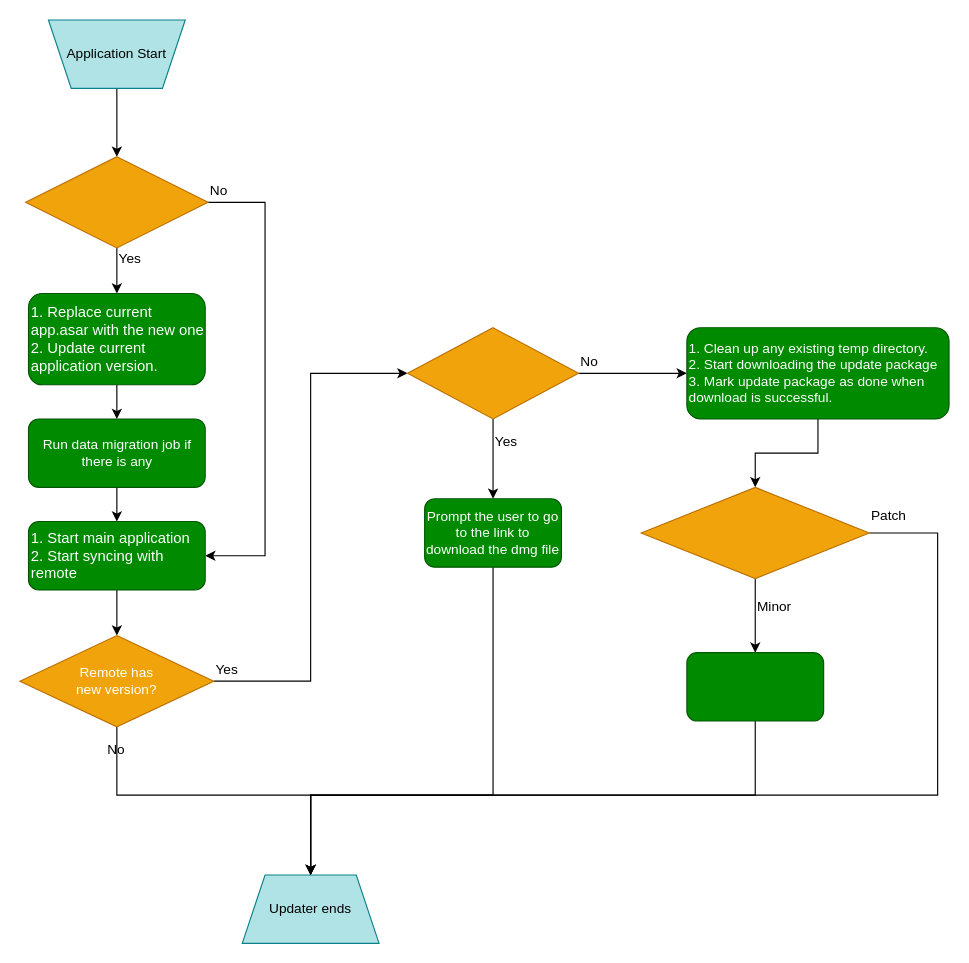
Some shapes in this 969 by 963 pixel diagram are drawn without their labels. Here are the shapes that lost their labels. From the top down, the centre of each, then its label:
the point at 116,202: Update package exists in temporary directory?
the point at 492,373: Major Update?
the point at 754,532: Minor update or Patch?
the point at 755,686: Prompt the user to reload the application
